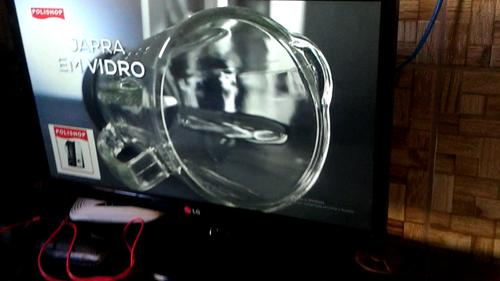Polishop #1: (47, 123, 101, 180)
